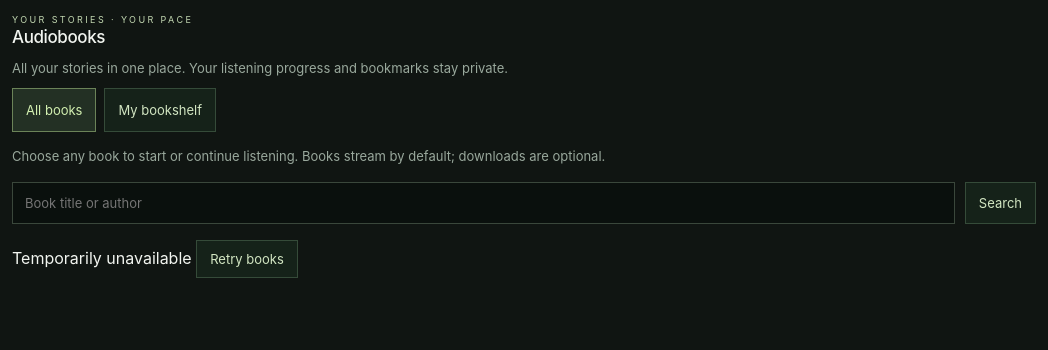
Test: bounds automatic retries and offers an explicit retry after failure
The width and height of the screenshot is (1048, 350).
expect the message shows "Temporarily unavailable": met, box [12,248,192,268]
What coordinates should you click on to do the following:
click the button "Retry books"
I would click on:
 (247, 259)
Its box is [196,240,298,278].
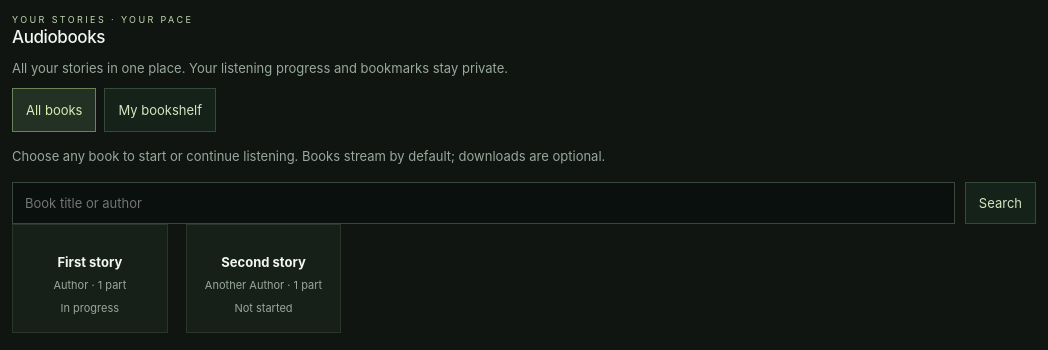
expect the button "Second story Another Author · 1 part Not started" is shown: met, box [186,224,341,334]
